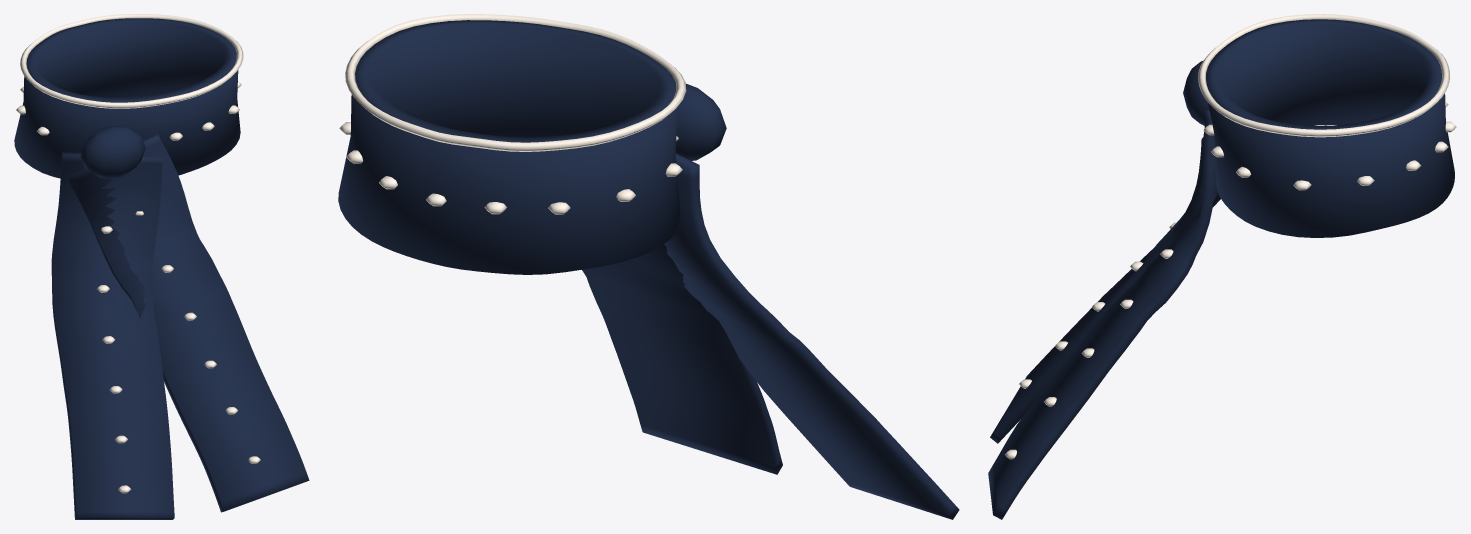
File: silk_scarf.glb
3 views of the same model, side by side, from view 1: azimuth 30°, elevation 25°; view 2: azimuth 150°, elevation 25°; view 3: azimuth 270°, elevation 25° (orthographic). The views are drawn at different scales.
Visible parts, largest first — view 1: silk_scarf; view 2: silk_scarf; view 3: silk_scarf.
Boxes of the visible parts, x1=… form: silk_scarf: x1=14, y1=14, x2=309, y2=519; silk_scarf: x1=338, y1=14, x2=959, y2=519; silk_scarf: x1=988, y1=14, x2=1456, y2=519.
Size of the model in its own units: 0.1133 by 0.1377 by 0.1356.
